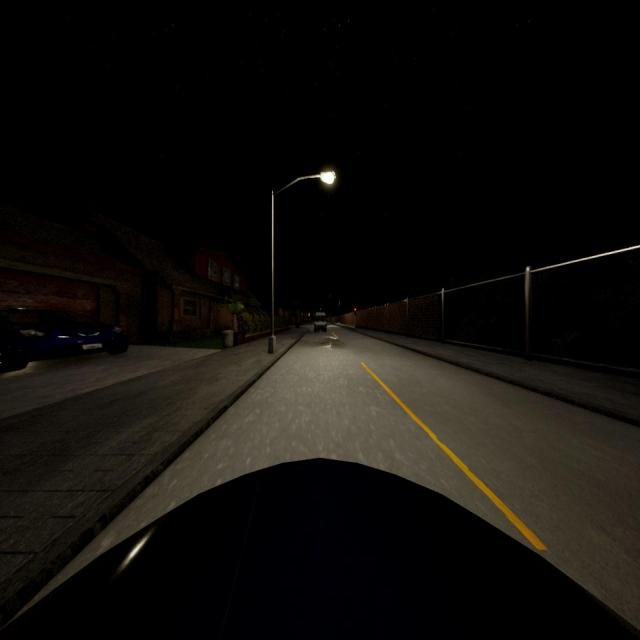Vehicle: (1, 458, 640, 640), (0, 308, 128, 372), (313, 312, 328, 332)
traffic_light: (354, 306, 356, 316)
